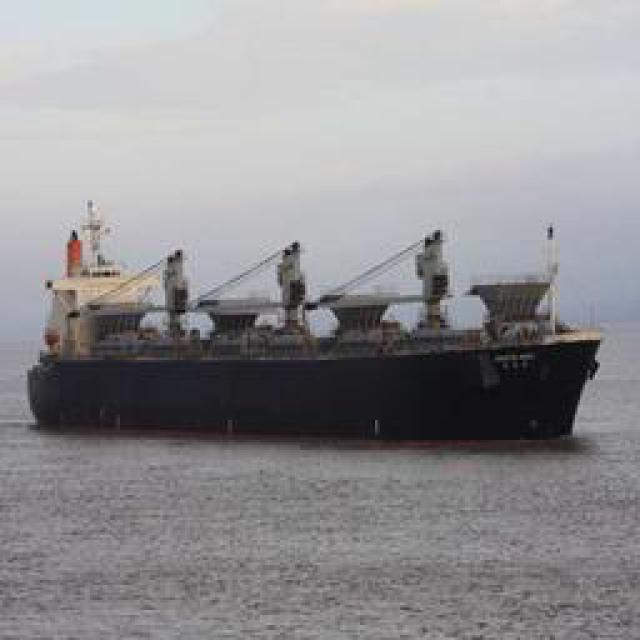Ship: (32, 201, 612, 439)
